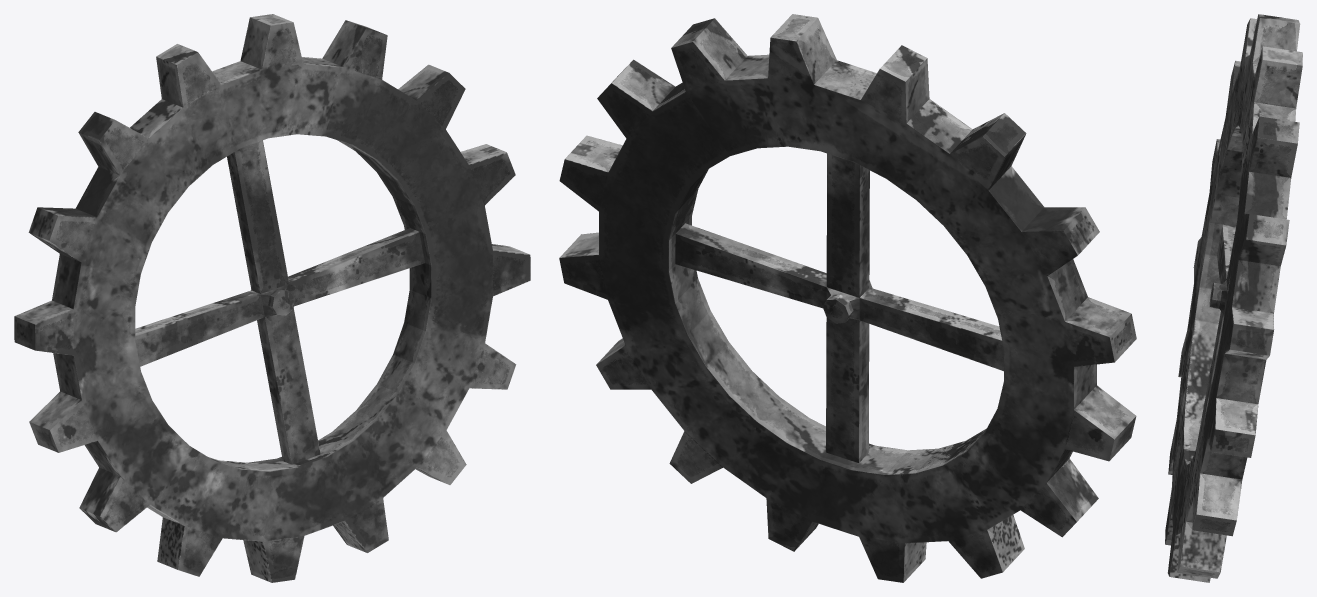
File: Cog2.fbx
3 renders of one model, left to right at view 1: azimuth 30°, elevation 25°; view 2: azimuth 150°, elevation 25°; view 3: azimuth 270°, elevation 25°, orthographic. The views are drawn at different scales.
Visible parts, largest first — view 1: Gear.002; view 2: Gear.002; view 3: Gear.002.
Part boxes in pixels (x1,y1,x2,y2): Gear.002: (14, 14, 530, 582); Gear.002: (559, 14, 1136, 582); Gear.002: (1165, 14, 1302, 582).
Size of the model in its own units: 235 by 234 by 56.65.
